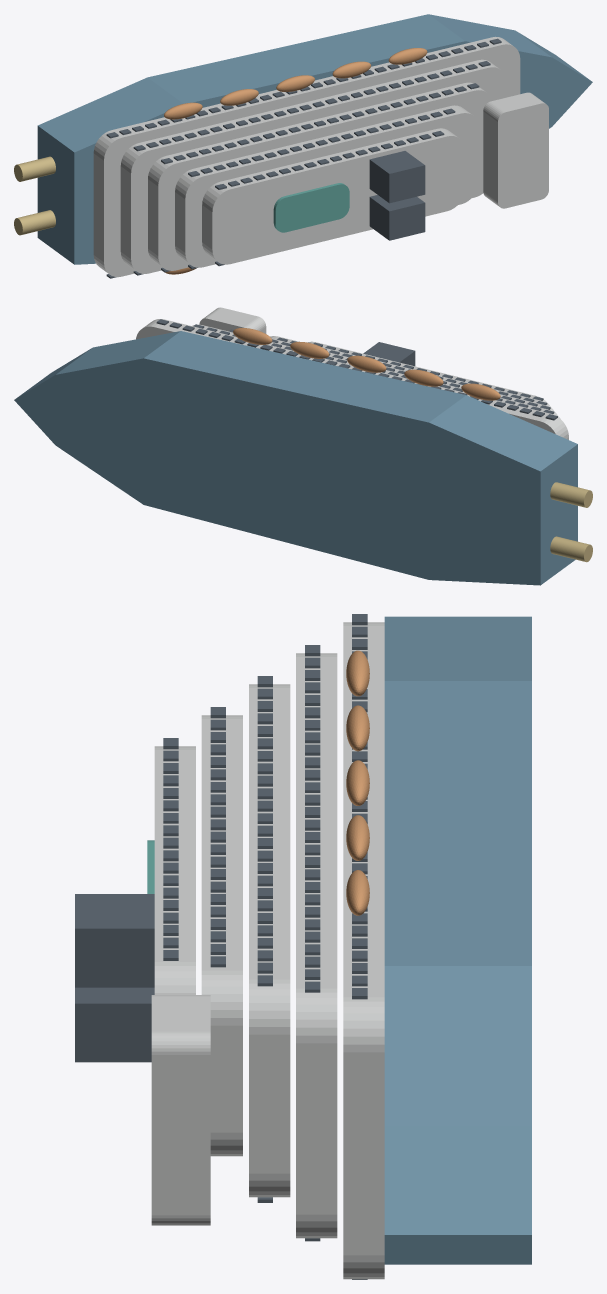
Rendered from assembly.glb.
3 renders of one model, top to bottom at view 1: azimuth 30°, elevation 25°; view 2: azimuth 150°, elevation 25°; view 3: azimuth 270°, elevation 25°, orthographic. The views are drawn at different scales.
Visible parts, largest first — view 1: part-000, part-009, part-001, part-003, part-005, part-007, part-011, part-013, part-012, part-015, part-004, part-002 (+4 smaller); view 2: part-000, part-015, part-001, part-016, part-002, part-011, part-013, part-010, part-004, part-009, part-007, part-003 (+1 smaller); view 3: part-000, part-001, part-003, part-005, part-007, part-011, part-013, part-009, part-004, part-006, part-015, part-008 (+2 smaller).
Boxes of the visible parts, x1,y1,x2,y2 form: part-000: [37, 14, 592, 264]; part-009: [202, 128, 465, 264]; part-001: [93, 36, 520, 277]; part-003: [120, 59, 506, 273]; part-005: [148, 82, 492, 270]; part-007: [175, 105, 478, 267]; part-011: [483, 92, 548, 208]; part-013: [369, 151, 425, 240]; part-012: [273, 183, 349, 232]; part-015: [164, 48, 427, 119]; part-004: [133, 61, 490, 275]; part-002: [106, 38, 501, 278]; part-000: [14, 331, 577, 585]; part-015: [233, 328, 500, 400]; part-001: [136, 319, 568, 439]; part-016: [550, 482, 592, 562]; part-002: [156, 319, 557, 420]; part-011: [199, 307, 266, 333]; part-013: [363, 342, 415, 366]; part-010: [313, 342, 543, 400]; part-004: [193, 324, 554, 414]; part-009: [307, 341, 549, 405]; part-007: [270, 336, 553, 410]; part-003: [192, 324, 560, 418]; part-000: [384, 616, 531, 1264]; part-001: [343, 622, 384, 1279]; part-003: [296, 653, 337, 1238]; part-005: [249, 684, 290, 1197]; part-007: [201, 715, 242, 1156]; part-011: [151, 995, 210, 1225]; part-013: [75, 894, 154, 1062]; part-009: [154, 746, 195, 994]; part-004: [305, 645, 320, 1241]; part-006: [257, 676, 272, 1202]; part-015: [346, 650, 369, 915]; part-008: [210, 707, 225, 967].
Size of the model in its own units: 0.216 by 0.063 by 0.0775.
